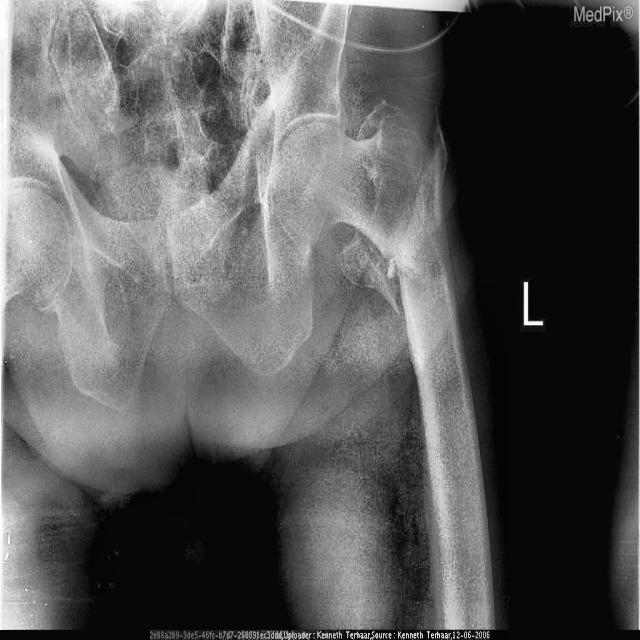angle: (380, 120, 442, 276)
